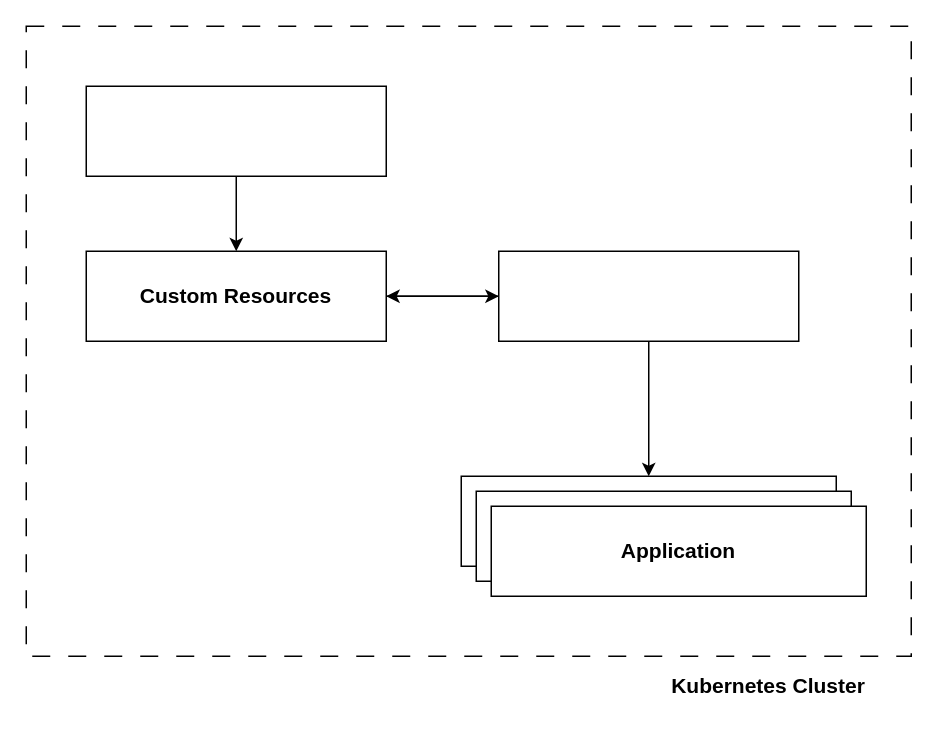
This 938x735 diagram has some shape labels left out. The shapes that lost their labels are listed below. From the top down, each one's box as (x1, y1, x2, y2) in pixels, then its label:
(85, 85, 386, 176): Custom Resource Definition
(497, 250, 799, 341): Operator
